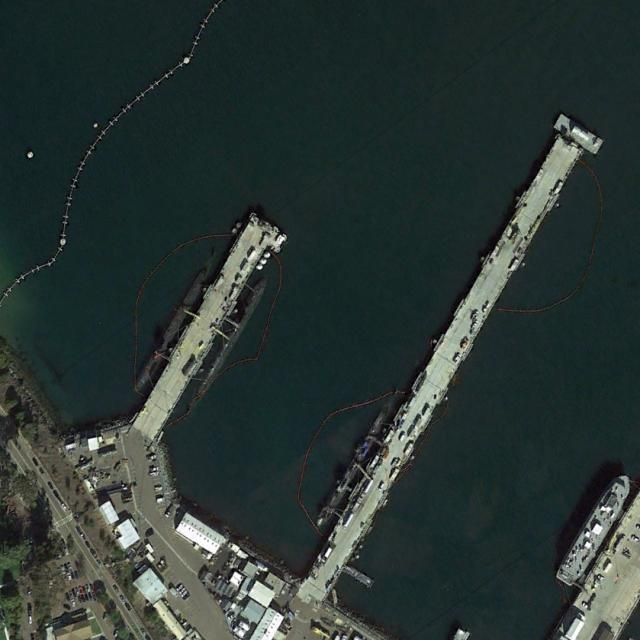Other Ship: (554, 468, 638, 591)
Submarine: (126, 262, 214, 398), (311, 398, 394, 533), (187, 274, 270, 408)
